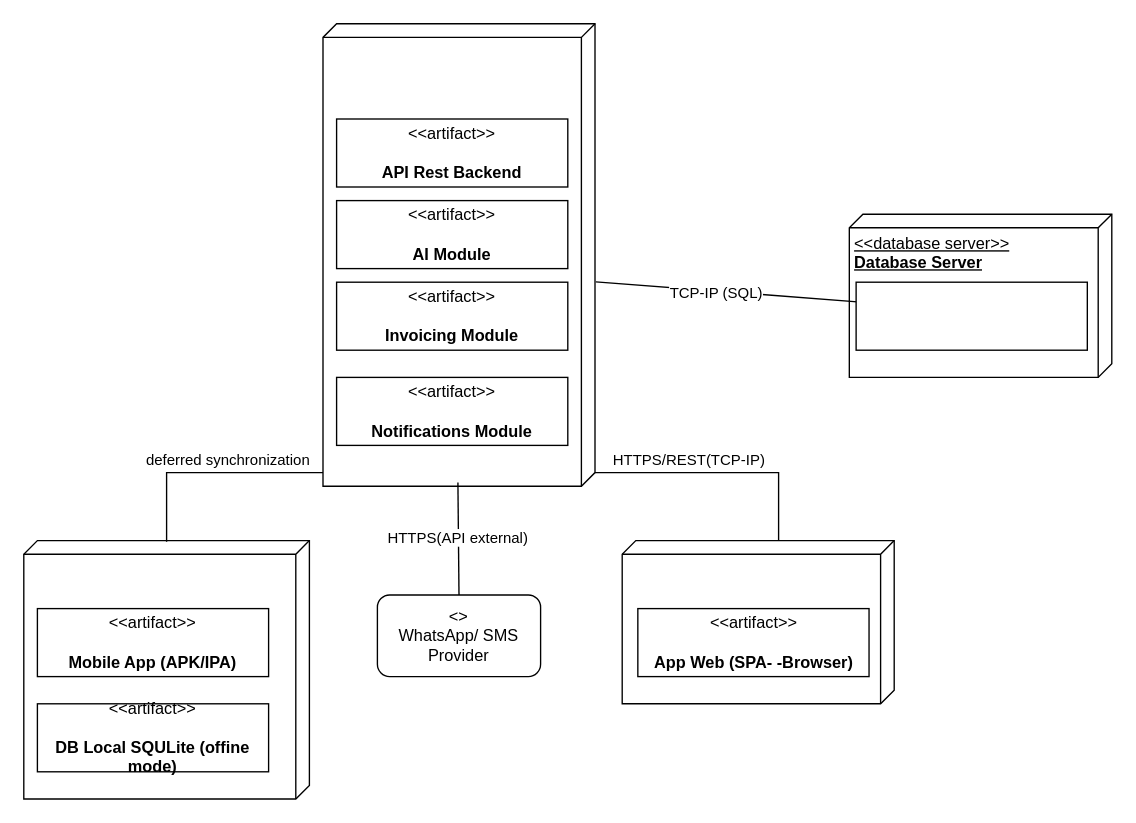
Some shapes in this 1136 by 823 pixel diagram are drawn without their labels. The shapes that lost their labels are listed below. From the top down, each one's box as (x1, y1, x2, y2) in pixels, then its label:
(322, 22, 595, 486): <<application server>> mobile application
(855, 281, 1087, 350): <<artifact>> Artifact1
(621, 539, 894, 704): <<device>> desktop computer
(22, 539, 309, 799): <<device>> mobile device
